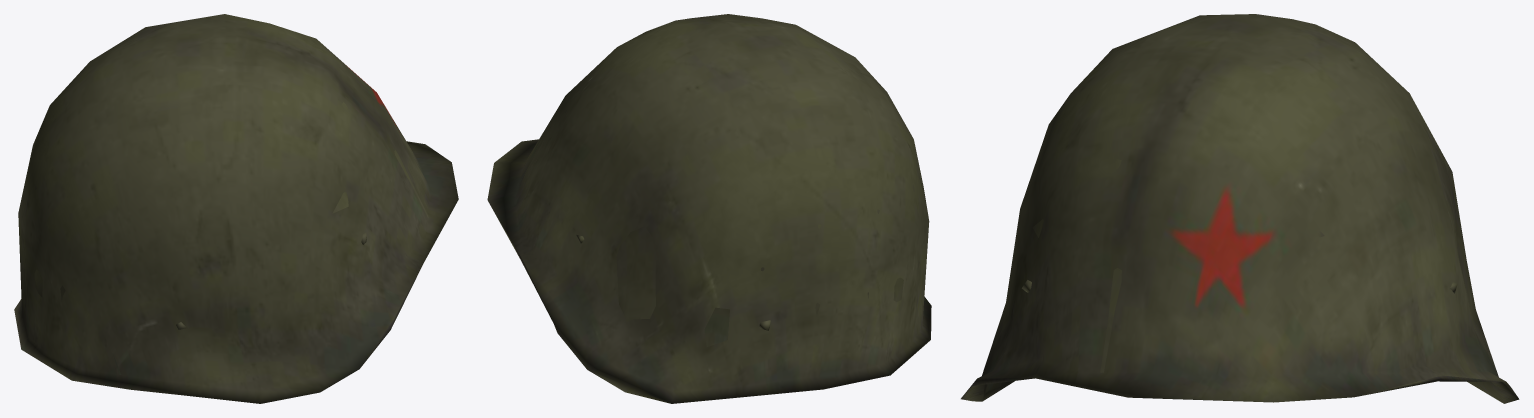
The model's file is uploads_files_642451_SovietHelmet_lod.fbx.
3 renders of one model, left to right at view 1: azimuth 30°, elevation 25°; view 2: azimuth 150°, elevation 25°; view 3: azimuth 270°, elevation 25°, orthographic. The views are drawn at different scales.
Visible parts, largest first — view 1: SovietHelmet_MSH_lod; view 2: SovietHelmet_MSH_lod; view 3: SovietHelmet_MSH_lod.
Part boxes in pixels (left/top/right/bottom): SovietHelmet_MSH_lod: left=14, top=14, right=458, bottom=403; SovietHelmet_MSH_lod: left=487, top=14, right=931, bottom=403; SovietHelmet_MSH_lod: left=961, top=14, right=1519, bottom=403.
Size of the model in its own units: 27.92 by 19.49 by 26.46.
